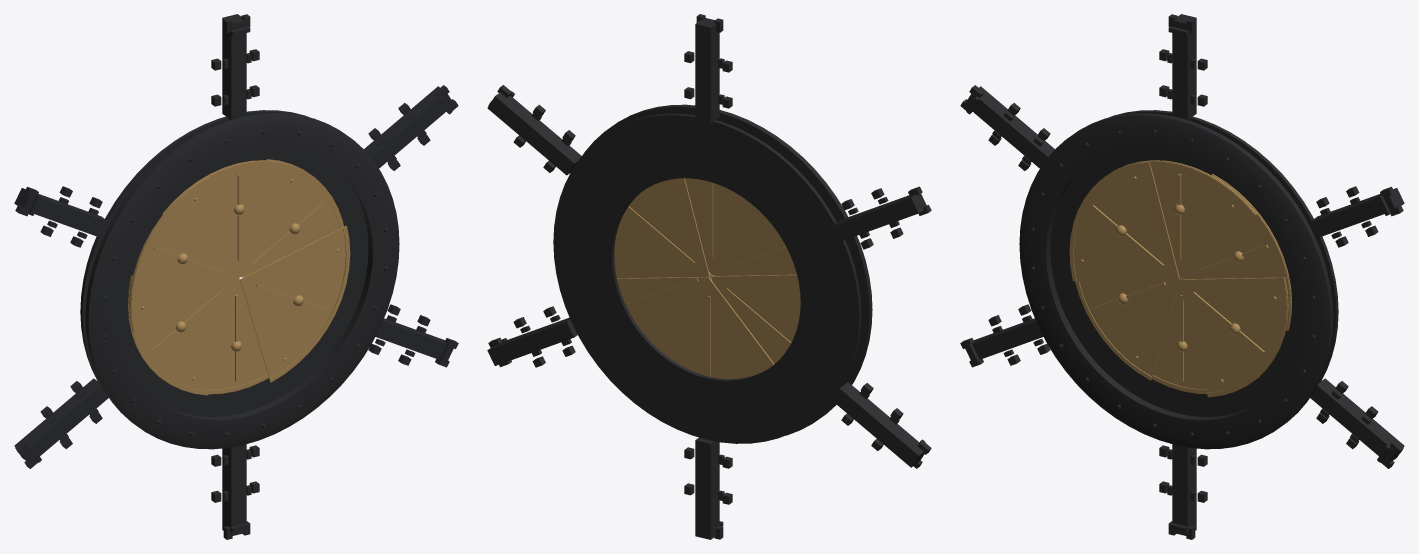
Rendered from sun_iris.glb.
The picture shows the model from 3 angles, left to right: view 1: azimuth 30°, elevation 25°; view 2: azimuth 150°, elevation 25°; view 3: azimuth 330°, elevation 25°; orthographic projection.
Visible parts, largest first — view 1: iris_frame, IA_leaf_3, IA_leaf_6, IA_leaf_1, IA_leaf_5, IA_leaf_2, IA_leaf_4; view 2: iris_frame, IA_leaf_2, IA_leaf_4, IA_leaf_5, IA_leaf_1, IA_leaf_3, IA_leaf_6; view 3: iris_frame, IA_leaf_3, IA_leaf_6, IA_leaf_1, IA_leaf_5, IA_leaf_2, IA_leaf_4.
Part boxes in pixels (x1,y1,x2,y2): iris_frame: (14, 14, 458, 539); IA_leaf_3: (240, 225, 350, 382); IA_leaf_6: (129, 176, 239, 332); IA_leaf_1: (162, 160, 314, 277); IA_leaf_5: (127, 275, 236, 395); IA_leaf_2: (240, 159, 343, 277); IA_leaf_4: (209, 279, 268, 394); iris_frame: (487, 14, 931, 539); IA_leaf_2: (614, 178, 709, 278); IA_leaf_4: (643, 277, 774, 379); IA_leaf_5: (710, 274, 800, 363); IA_leaf_1: (685, 178, 771, 275); IA_leaf_3: (617, 274, 712, 332); IA_leaf_6: (712, 225, 796, 275); iris_frame: (960, 14, 1404, 539); IA_leaf_3: (1178, 277, 1288, 397); IA_leaf_6: (1069, 161, 1179, 281); IA_leaf_1: (1105, 160, 1256, 278); IA_leaf_5: (1075, 277, 1181, 380); IA_leaf_2: (1182, 174, 1291, 330); IA_leaf_4: (1152, 277, 1259, 394).
Size of the model in its own units: 3.45 by 3.88 by 0.2236.
